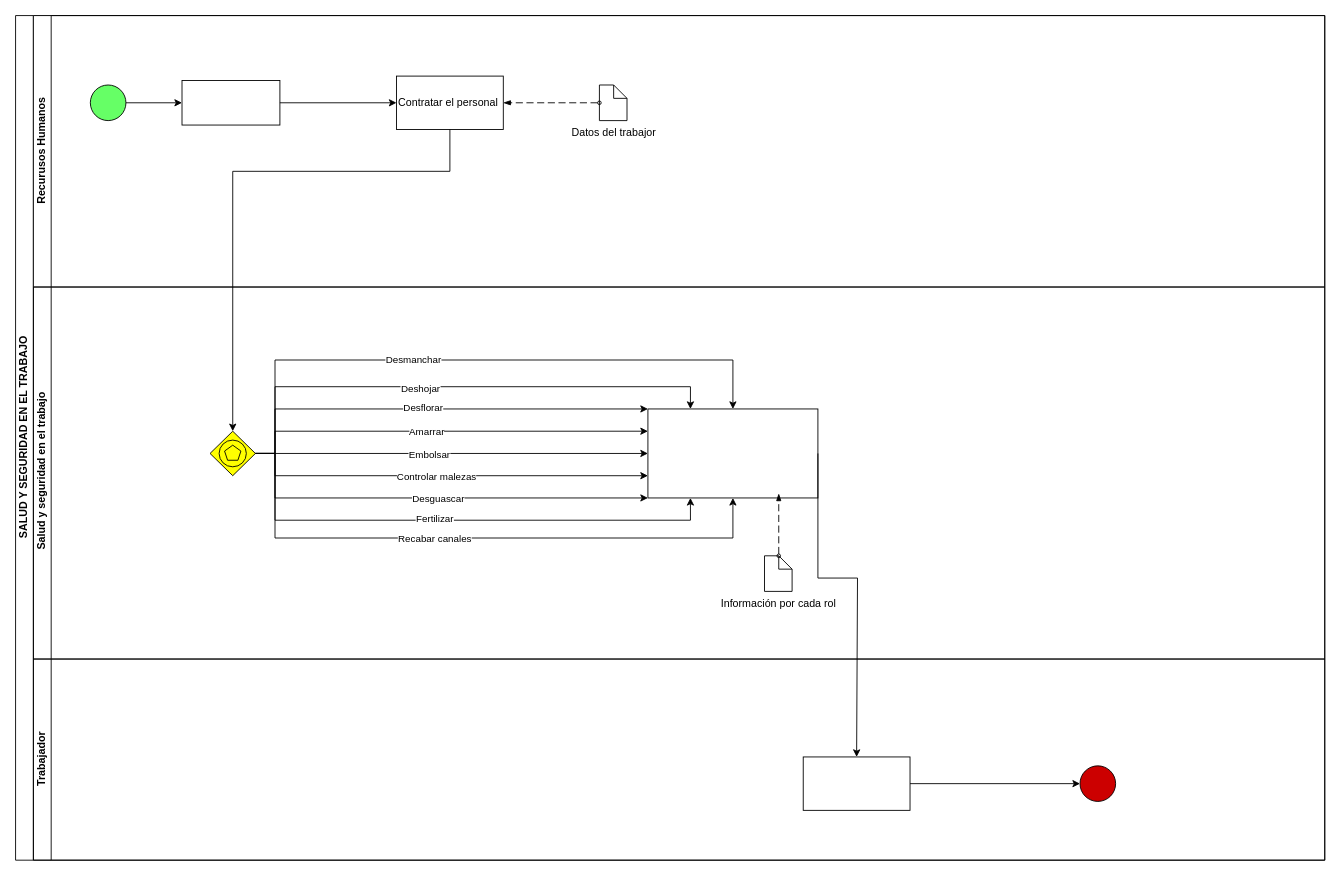
This 1340x876 diagram has some shape labels left out. Each missing label, with the centre of its shape:
Adquirir implementos: point 856,783
Capacitar en cada uno de los roles: point 732,453
Seleccionar el personal: point 230,102
